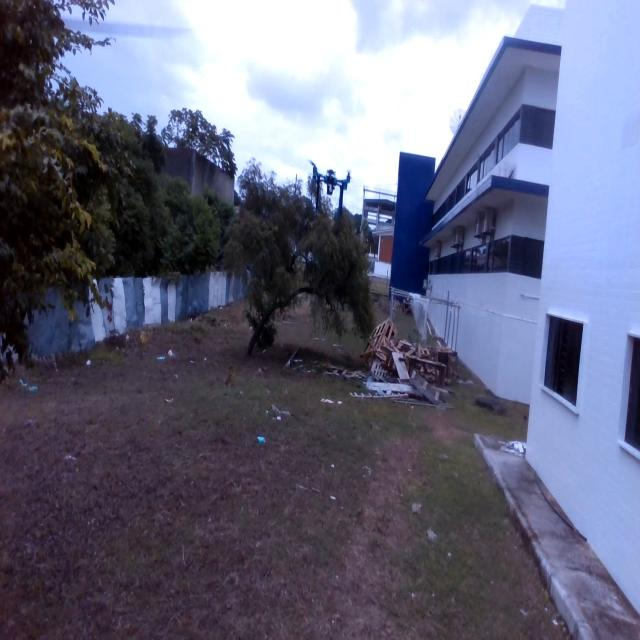-uav-: (302, 135, 358, 237)
